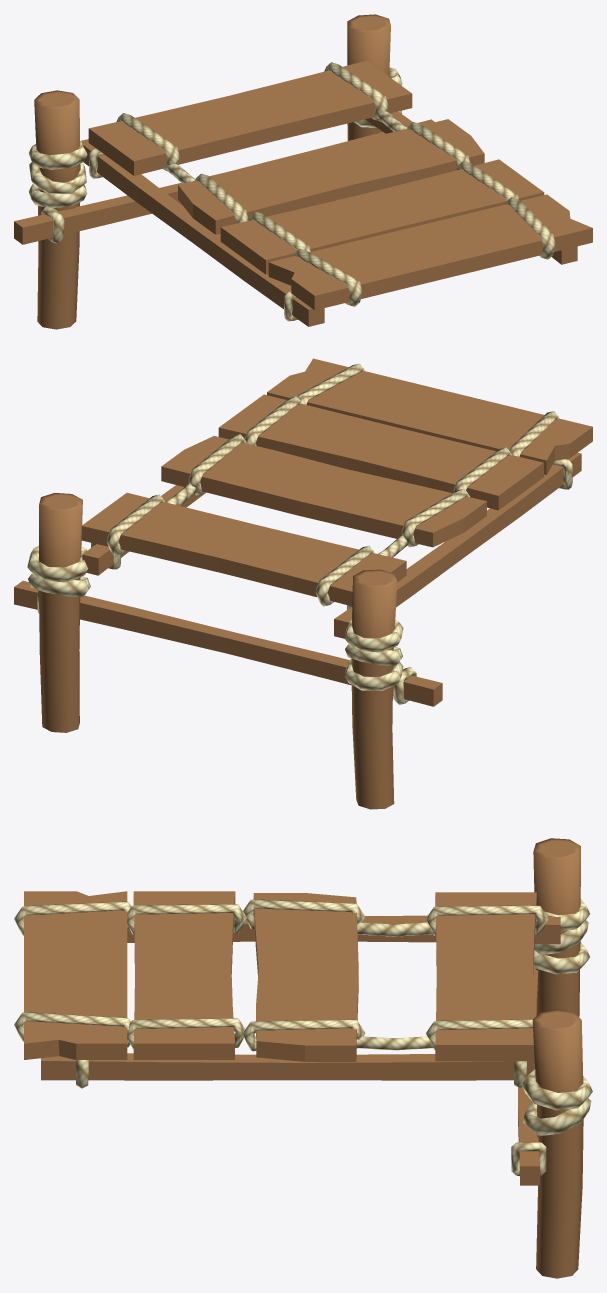
File: H_Ponton_02.fbx
3 views of the same model, one above another, from view 1: azimuth 30°, elevation 25°; view 2: azimuth 150°, elevation 25°; view 3: azimuth 270°, elevation 25° (orthographic). The views are drawn at different scales.
Parts seen in each view (by area): view 1: H_Ponton_02; view 2: H_Ponton_02; view 3: H_Ponton_02.
Boxes of the visible parts, box(x1,y1,x2,y2) form: H_Ponton_02: box(14, 14, 592, 329); H_Ponton_02: box(14, 358, 592, 809); H_Ponton_02: box(14, 838, 592, 1278).
Size of the model in its own units: 300 by 152 by 321.
